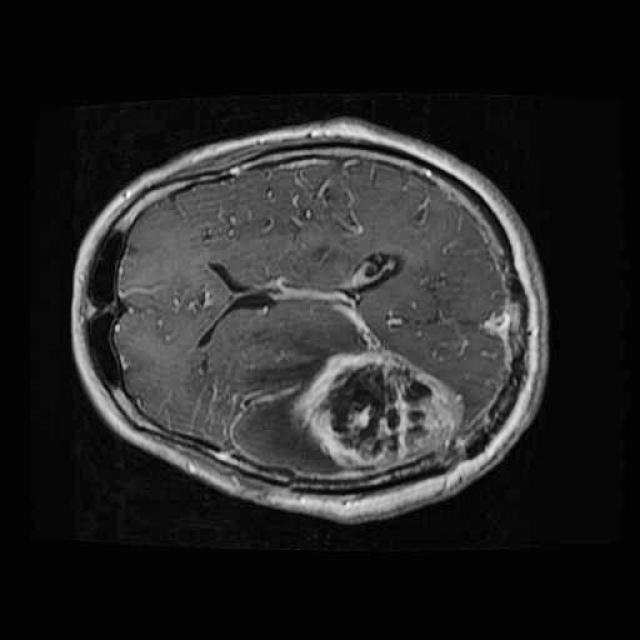Non-Tumor: (289, 329, 478, 485)
